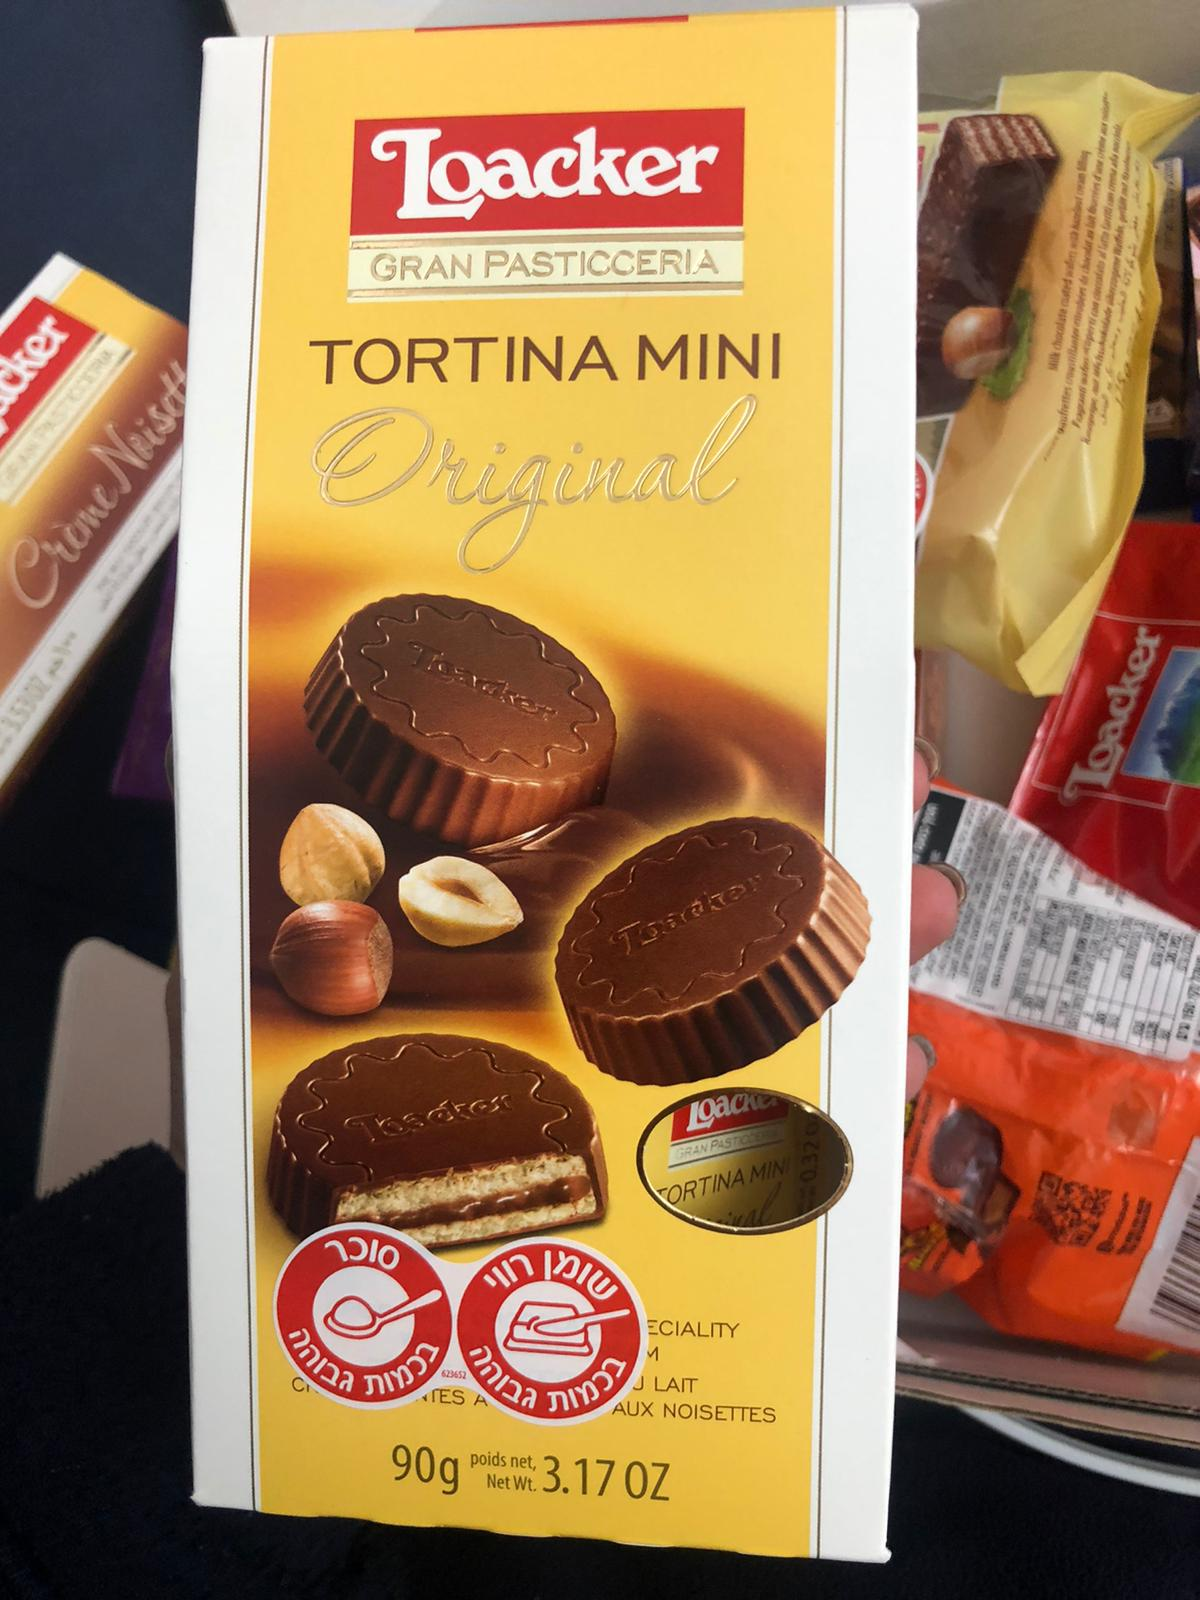fat: (456, 1238, 645, 1425)
sugar: (272, 1223, 459, 1414)
